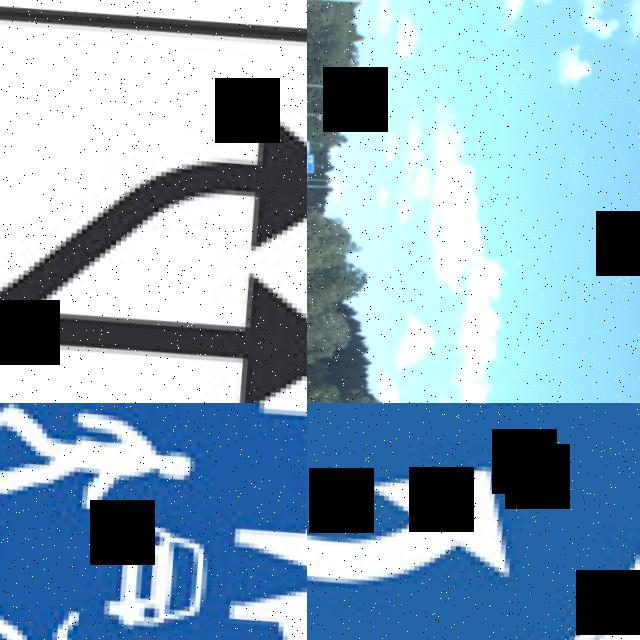16: (307, 403, 640, 640)
179: (0, 0, 307, 403)
52: (0, 403, 307, 640)
Roundabout: (307, 403, 640, 640)
